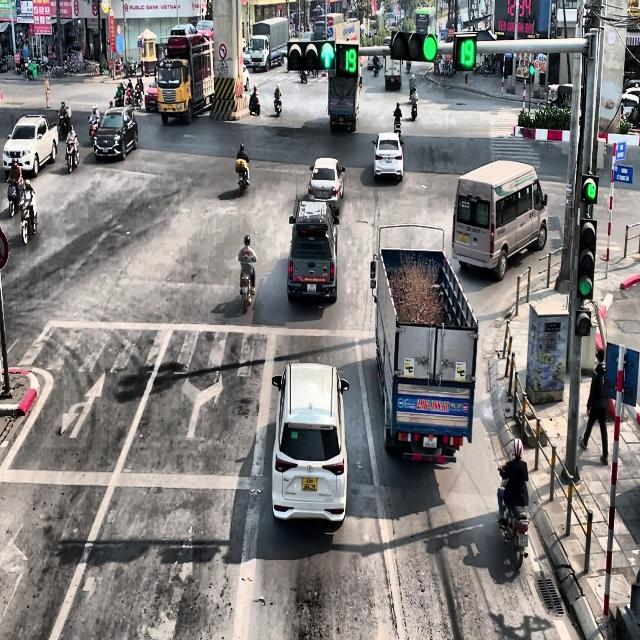lisence_plate: (396, 395, 469, 416), (300, 476, 318, 492), (422, 434, 438, 449), (465, 222, 482, 236), (305, 283, 317, 293), (459, 232, 468, 244), (336, 99, 348, 107), (319, 189, 327, 198), (385, 157, 393, 165), (339, 115, 344, 123), (391, 77, 394, 83)
